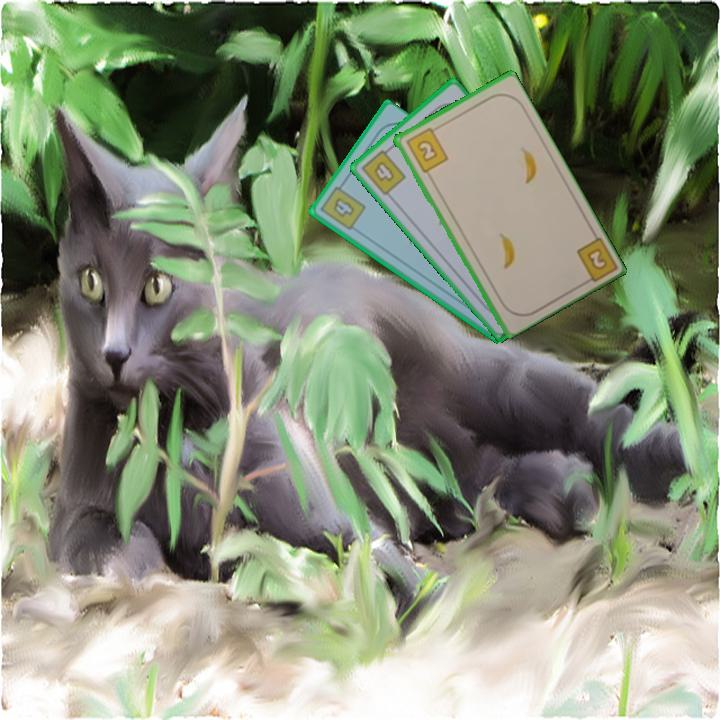2b: (402, 123, 451, 175), (572, 233, 618, 288)
4b: (317, 178, 369, 233), (358, 143, 409, 198)
